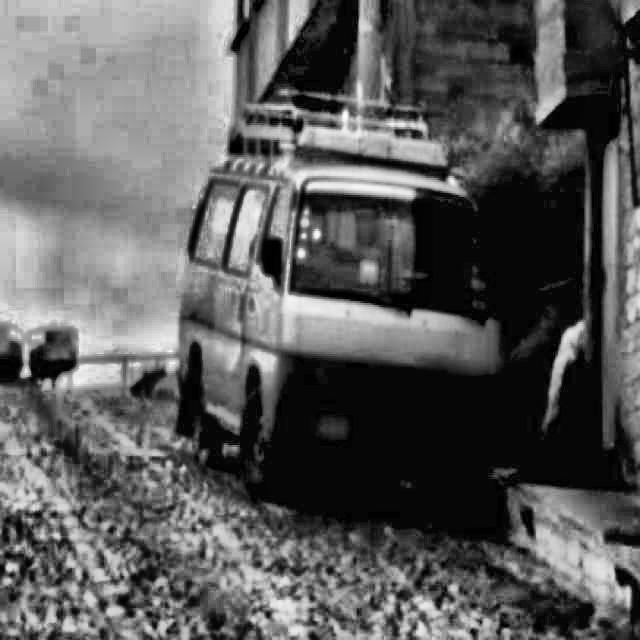carro: (168, 136, 510, 513)
